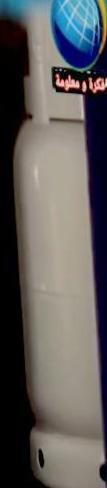cylinder: (0, 1, 107, 488)
